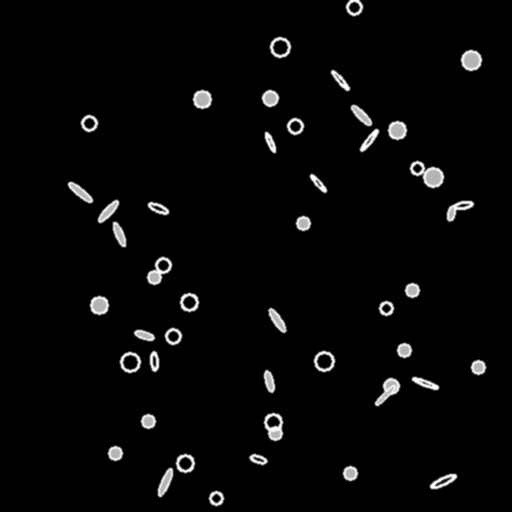pseudomonas: (349, 103, 373, 127), (67, 181, 93, 203), (97, 199, 119, 223), (374, 384, 396, 406), (359, 128, 379, 152), (267, 308, 287, 332), (430, 472, 456, 490), (157, 468, 173, 496), (330, 69, 350, 91), (111, 221, 127, 247), (411, 376, 439, 390), (263, 131, 277, 153), (310, 174, 326, 192), (148, 201, 168, 215), (134, 329, 154, 341), (264, 371, 274, 391), (454, 200, 472, 210), (249, 454, 267, 464), (150, 351, 158, 371), (446, 205, 456, 221)
synechocystis: (271, 38, 289, 56), (121, 353, 139, 371), (462, 51, 480, 69), (424, 168, 442, 186), (315, 352, 333, 370), (181, 294, 197, 310), (389, 122, 405, 138), (91, 297, 107, 313), (177, 455, 193, 471), (194, 91, 210, 107), (265, 414, 281, 430), (82, 116, 96, 130), (156, 258, 170, 272), (166, 329, 180, 343), (347, 0, 361, 14), (288, 119, 302, 133), (384, 379, 398, 393), (263, 91, 277, 105), (148, 271, 160, 283), (411, 162, 423, 174), (142, 415, 154, 427), (109, 447, 121, 459), (380, 302, 392, 314), (269, 427, 281, 439), (472, 361, 484, 373), (297, 217, 309, 229), (210, 492, 222, 504), (344, 467, 356, 479), (398, 344, 410, 356), (406, 284, 418, 296)
